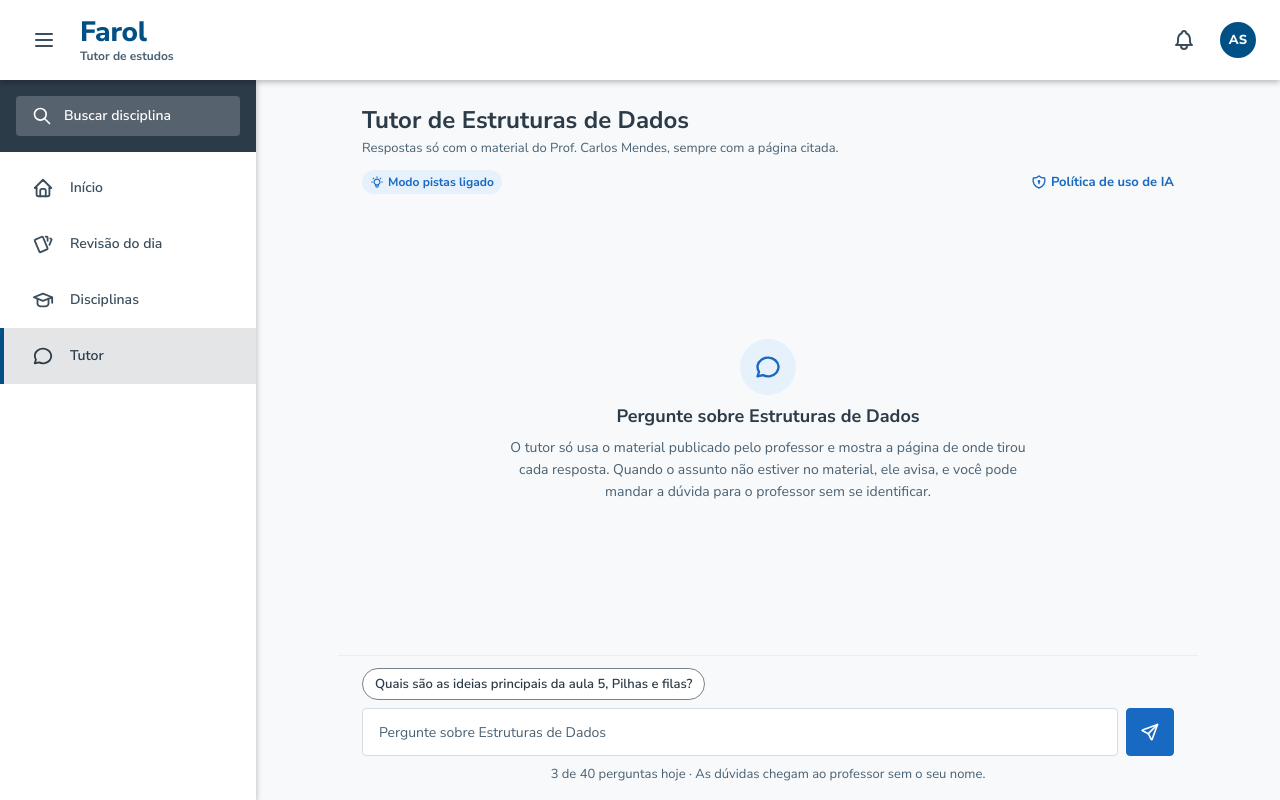
Test: tela do tutor (TUT-T24) › com a conversa vazia, mostra as sugestões e envia a que o aluno escolher
Click the button "Quais são as ideias principais da aula 5, Pilhas e filas?" at (534, 684), box x1=362 y1=668 x2=706 y2=700
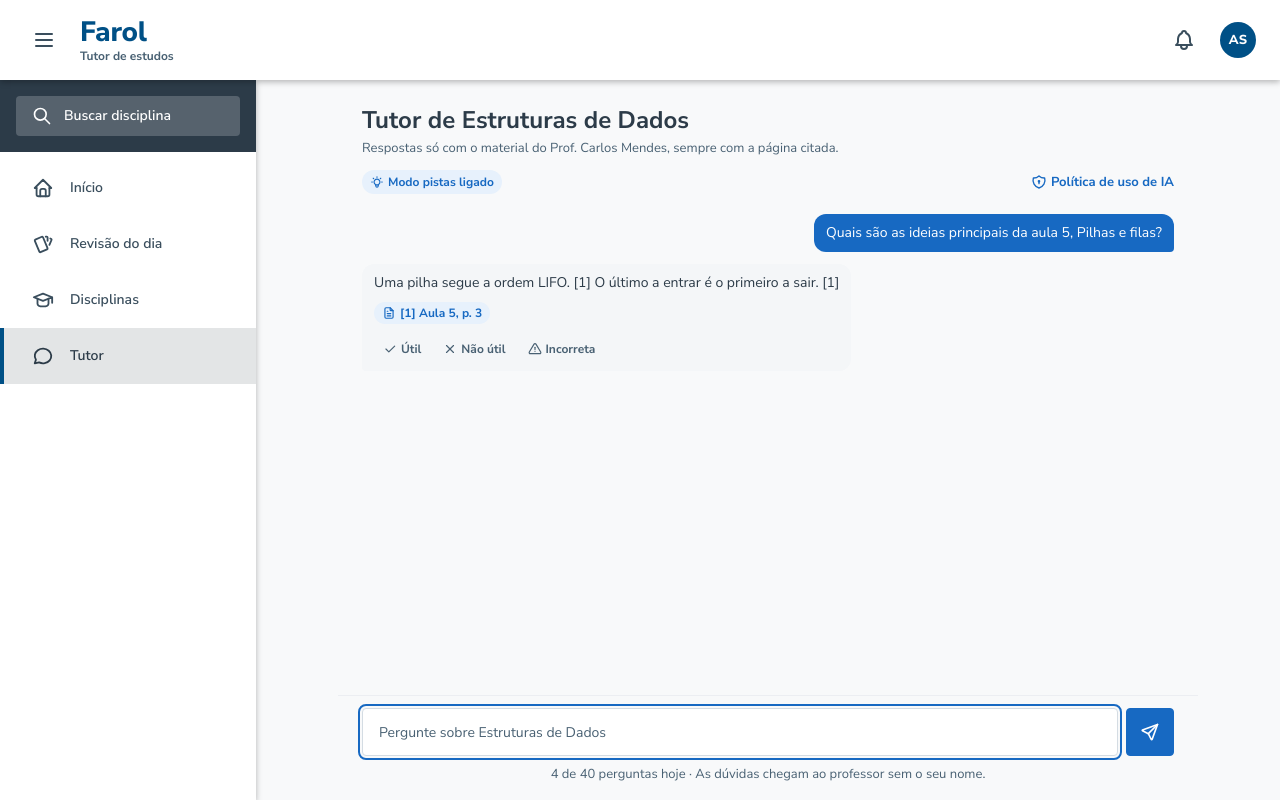
Now the text "O último a entrar" is shown, box x1=374 y1=273 x2=839 y2=292
